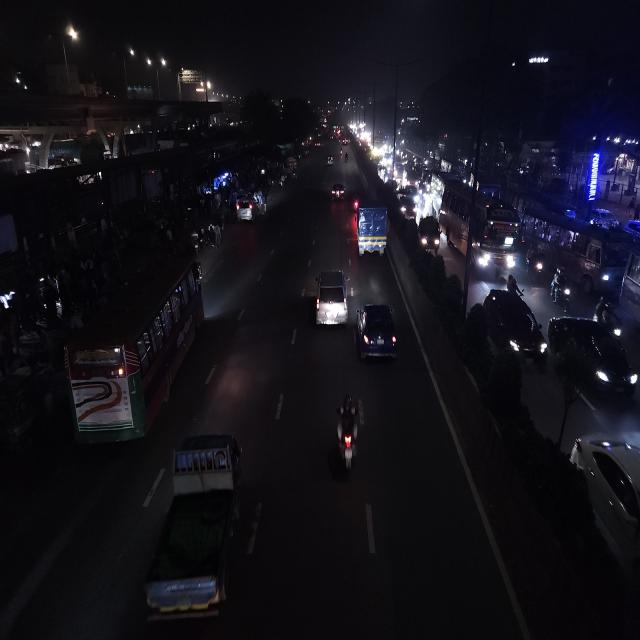bus: (62, 256, 206, 454), (522, 207, 626, 292), (439, 181, 520, 275)
car: (570, 432, 640, 610), (546, 313, 640, 407), (481, 286, 548, 372), (355, 298, 399, 371), (313, 266, 349, 334), (233, 187, 257, 224), (396, 188, 418, 220), (330, 180, 346, 203)
cng: (326, 156, 335, 167)
motorcycle: (334, 393, 366, 480), (549, 266, 573, 307), (526, 244, 547, 280), (188, 226, 206, 256)
pickup_van: (144, 427, 246, 623)
truck: (351, 198, 392, 261)
